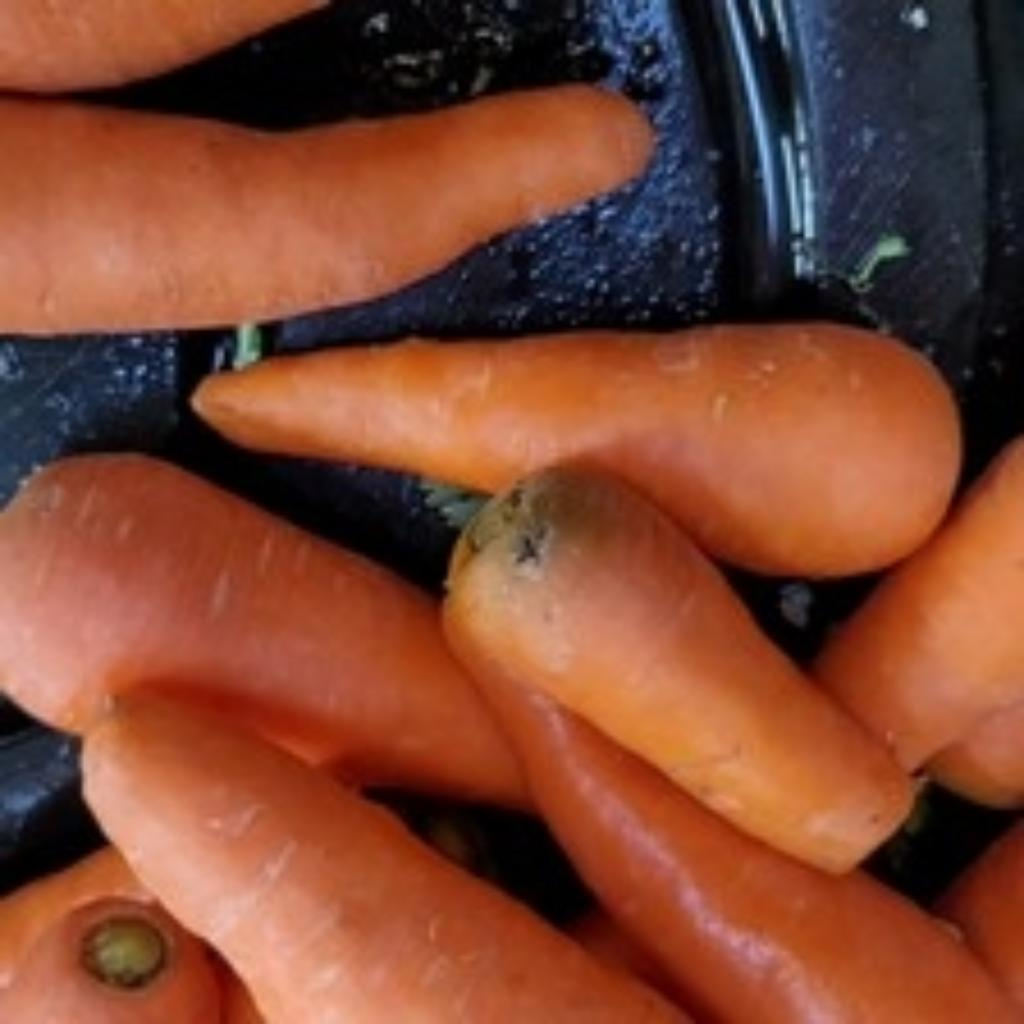carrot: (0, 320, 1015, 1015), (187, 320, 951, 567), (480, 679, 1024, 1024), (450, 468, 912, 871), (194, 332, 960, 573), (0, 82, 645, 325), (816, 438, 1023, 805)
